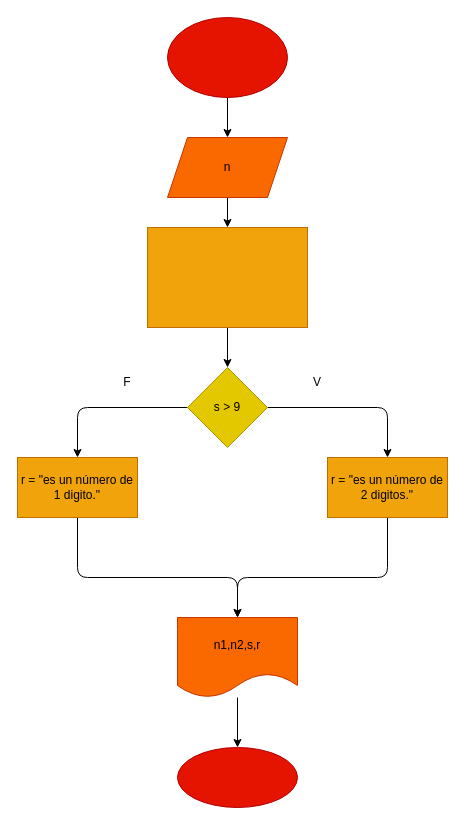
Some shapes in this 465 by 825 pixel diagram are drawn without their labels. The shapes that lost their labels are listed below. From the top down, each one's box as (x1, y1, x2, y2) in pixels, then its label:
(166, 16, 288, 98): INCIO
(146, 226, 308, 328): n1 = n % 10 n2 = int((n % 100) / 10) s = n1 + n2
(176, 746, 298, 808): FIN
